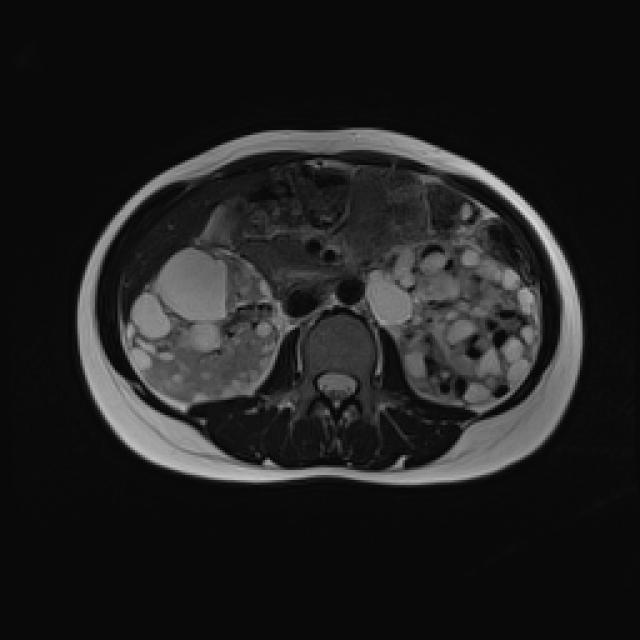sag: (127, 242, 284, 406)
sol: (367, 237, 542, 411)
